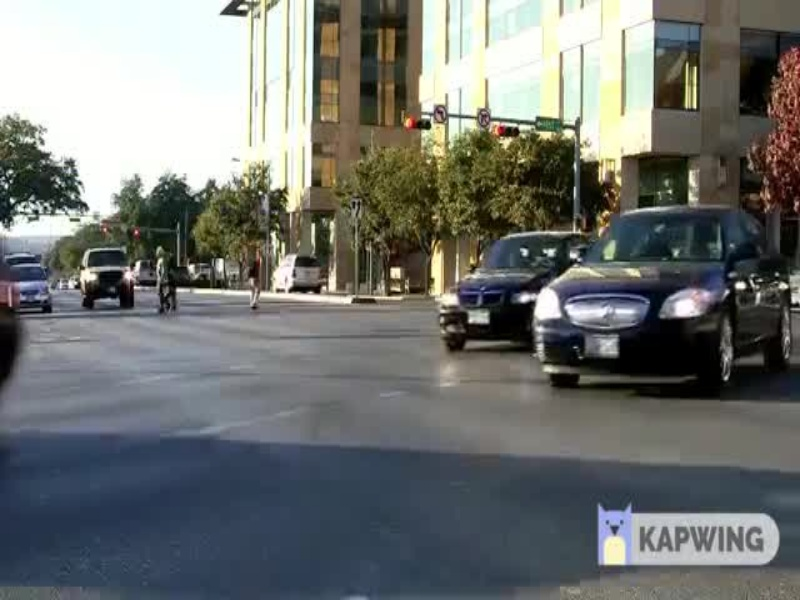car: (532, 201, 791, 389), (429, 227, 578, 351)
